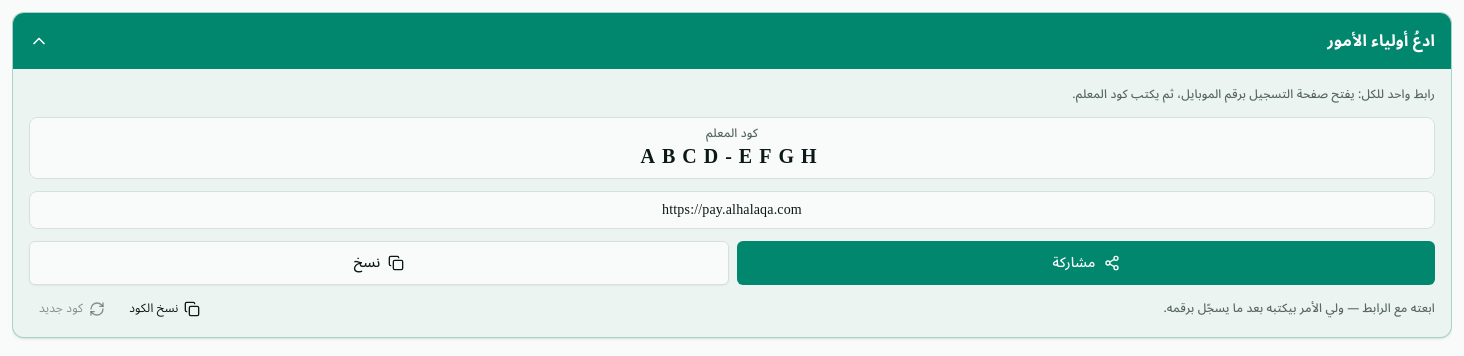
Test: ShareEntryCard › collapses on a header click but keeps the strip visible
Click the button with test id "share-entry-toggle". click: [1381, 41]
box: [13, 13, 1451, 69]
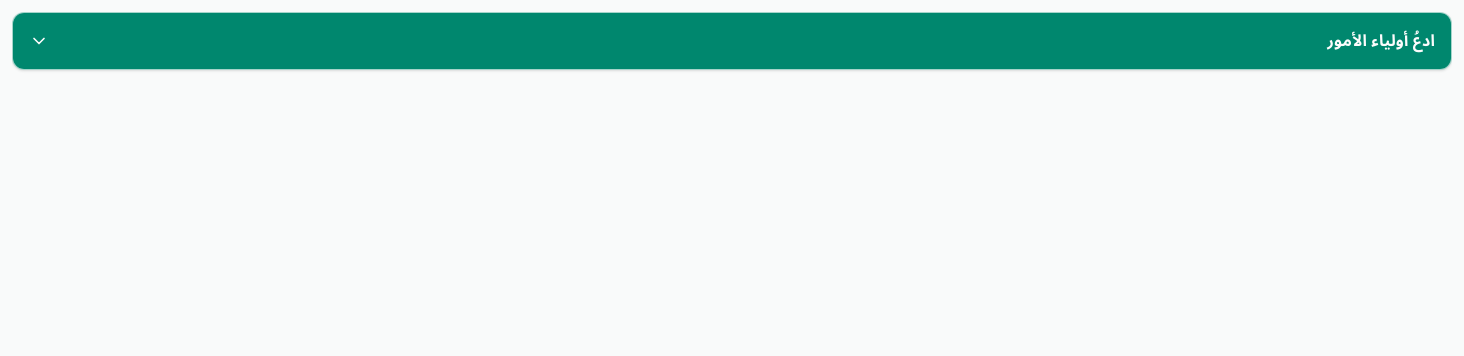
Expected: the text "ادعُ أولياء الأمور" is shown, [1327, 28, 1435, 54]
Now the text with test id "share-entry-url" is gone
